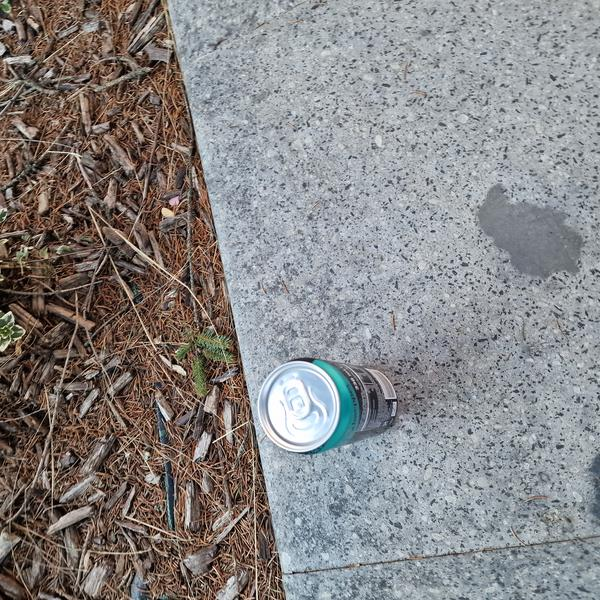can: (256, 358, 399, 455)
